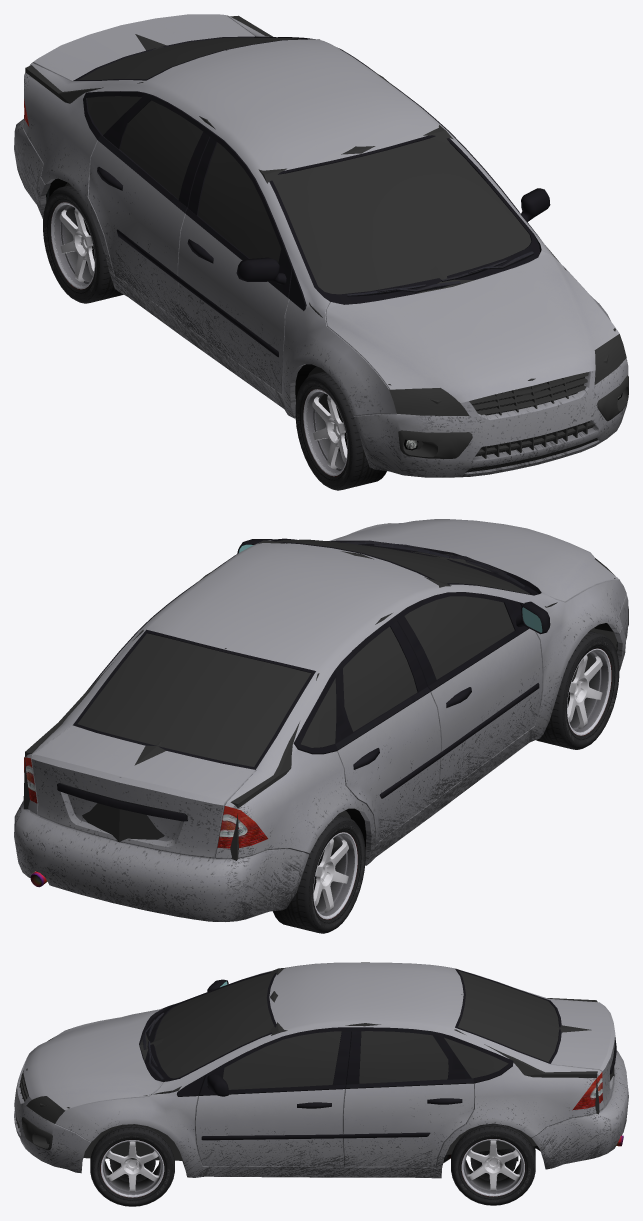
File: tocus.obj
3 renders of one model, top to bottom at view 1: azimuth 30°, elevation 25°; view 2: azimuth 150°, elevation 25°; view 3: azimuth 270°, elevation 25°, orthographic. The views are drawn at different scales.
Visible parts, largest first — view 1: tocus; view 2: tocus; view 3: tocus.
Part boxes in pixels (x1,y1,x2,y2): tocus: [14, 14, 628, 490]; tocus: [14, 519, 628, 933]; tocus: [14, 962, 628, 1206].
Size of the model in its own units: 1.85 by 1.39 by 4.45.
13 materials, 11 textured.
